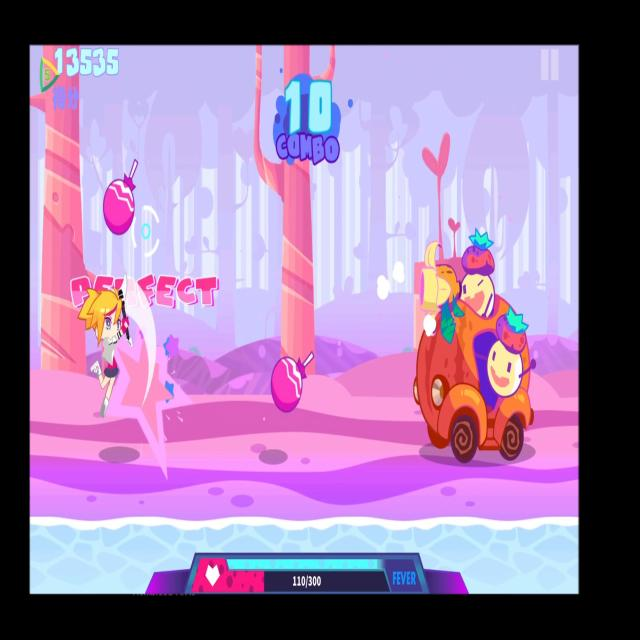cheboss: (407, 222, 539, 470)
tang: (98, 143, 152, 250), (268, 336, 318, 426)
